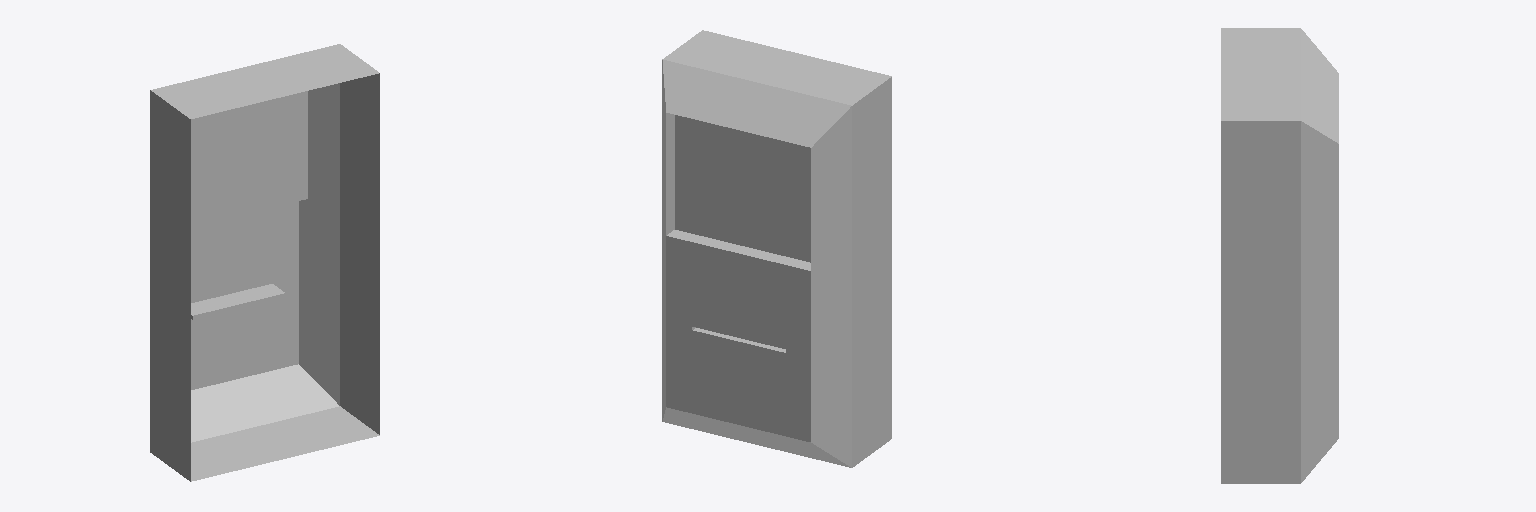
The model's file is buttonkeycard.obj.
3 views of the same model, side by side, from view 1: azimuth 30°, elevation 25°; view 2: azimuth 150°, elevation 25°; view 3: azimuth 270°, elevation 25° (orthographic).
Visible parts, largest first — view 1: KeyCardButton.001; view 2: KeyCardButton.001; view 3: KeyCardButton.001.
Boxes of the visible parts, x1,y1,x2,y2 form: KeyCardButton.001: [150, 44, 379, 481]; KeyCardButton.001: [662, 30, 891, 467]; KeyCardButton.001: [1221, 28, 1338, 483].
Bounding box in the file's own units: 0.277 × 0.5055 × 0.1489.